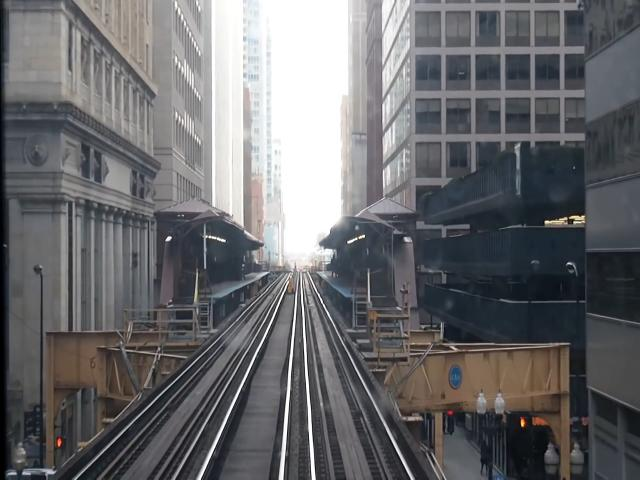signal light: (448, 412, 456, 437)
